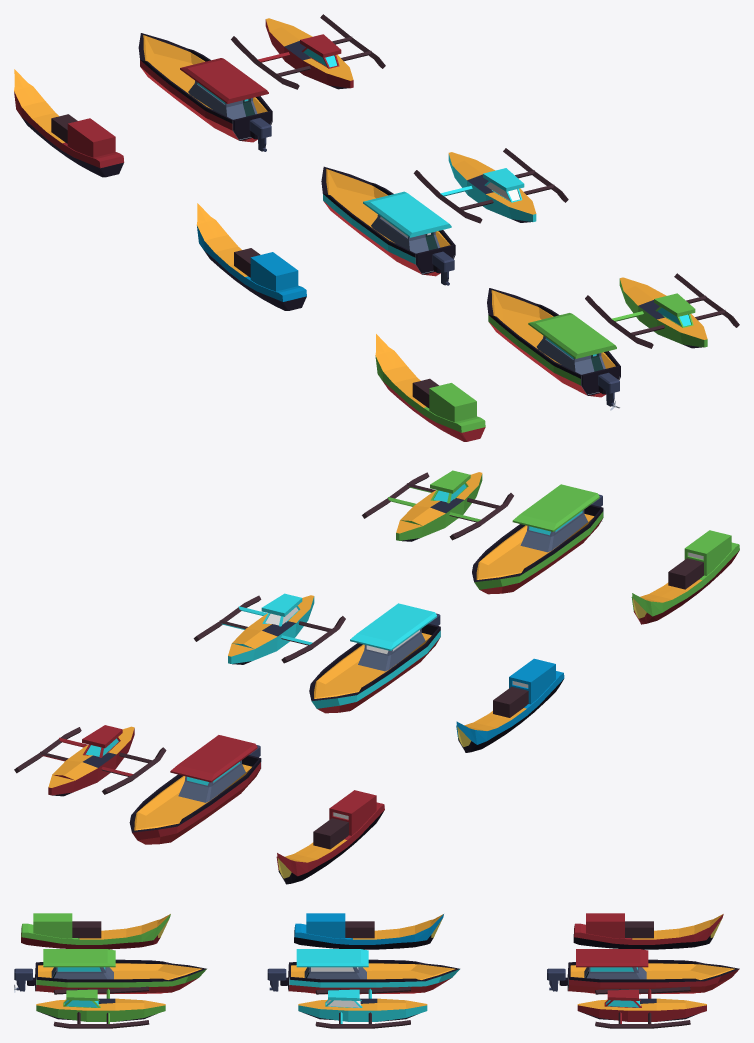
The model's file is Boat Pack by nabiha.fbx.
The picture shows the model from 3 angles, top to bottom: view 1: azimuth 30°, elevation 25°; view 2: azimuth 150°, elevation 25°; view 3: azimuth 270°, elevation 25°; orthographic projection. The views are drawn at different scales.
Parts seen in each view (by area): view 1: Boat2B, Boat2R, Boat2G, Boat1R, Boat1B, Boat1G, Boat3G, Boat3R, Boat3B; view 2: Boat2B, Boat2R, Boat2G, Boat3B, Boat3G, Boat3R, Boat1G, Boat1R, Boat1B; view 3: Boat2B, Boat2G, Boat2R, Boat1B, Boat1R, Boat1G, Boat3R, Boat3G, Boat3B.
Part boxes in pixels (bbox=[...]): Boat2B: bbox=[321, 166, 455, 285]; Boat2R: bbox=[138, 33, 272, 151]; Boat2G: bbox=[487, 288, 620, 406]; Boat1R: bbox=[14, 69, 124, 177]; Boat1B: bbox=[196, 203, 306, 310]; Boat1G: bbox=[375, 334, 485, 441]; Boat3G: bbox=[585, 273, 739, 348]; Boat3R: bbox=[231, 14, 385, 89]; Boat3B: bbox=[413, 148, 568, 223]; Boat2B: bbox=[309, 603, 440, 713]; Boat2R: bbox=[129, 735, 261, 844]; Boat2G: bbox=[472, 484, 603, 594]; Boat3B: bbox=[193, 593, 345, 664]; Boat3G: bbox=[362, 470, 513, 541]; Boat3R: bbox=[14, 725, 166, 796]; Boat1G: bbox=[631, 530, 739, 624]; Boat1R: bbox=[276, 790, 384, 884]; Boat1B: bbox=[456, 658, 564, 752]; Boat2B: bbox=[267, 949, 459, 994]; Boat2G: bbox=[14, 949, 206, 994]; Boat2R: bbox=[547, 949, 739, 994]; Boat1B: bbox=[294, 913, 443, 949]; Boat1R: bbox=[573, 913, 723, 949]; Boat1G: bbox=[21, 913, 170, 949]; Boat3R: bbox=[577, 986, 706, 1028]; Boat3G: bbox=[36, 986, 165, 1028]; Boat3B: bbox=[298, 986, 427, 1028].
Size of the model in its own units: 246 by 44.04 by 665.
